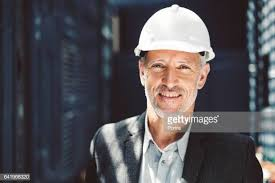Person_wearing_helmet: (124, 0, 217, 78)
